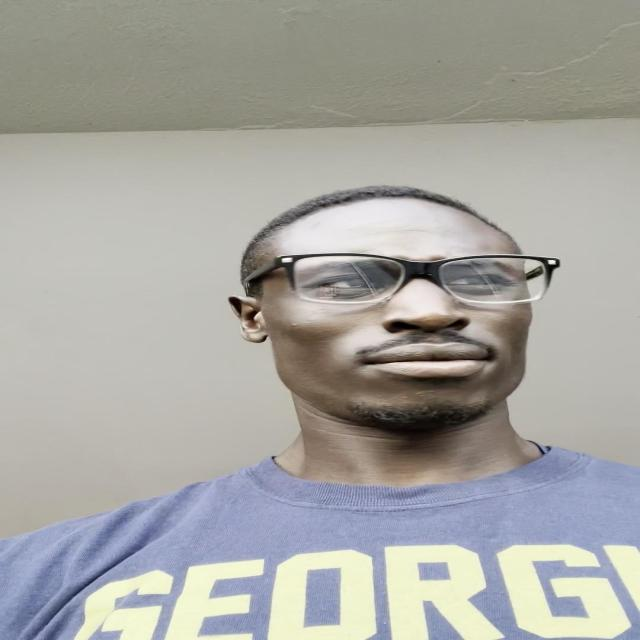NO-Mask: (240, 189, 552, 447)
